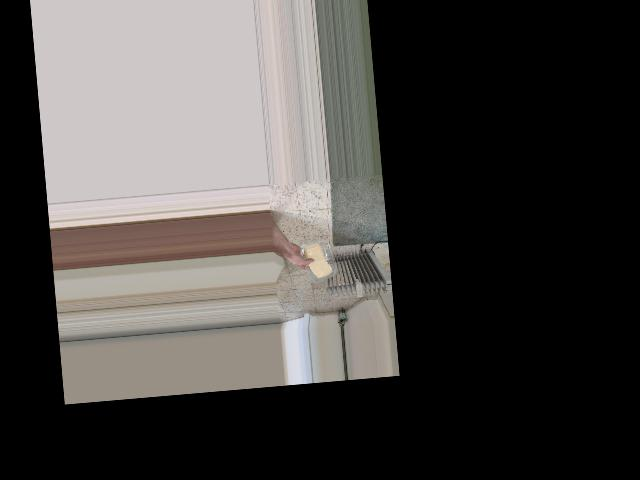cheese: (301, 239, 333, 282)
